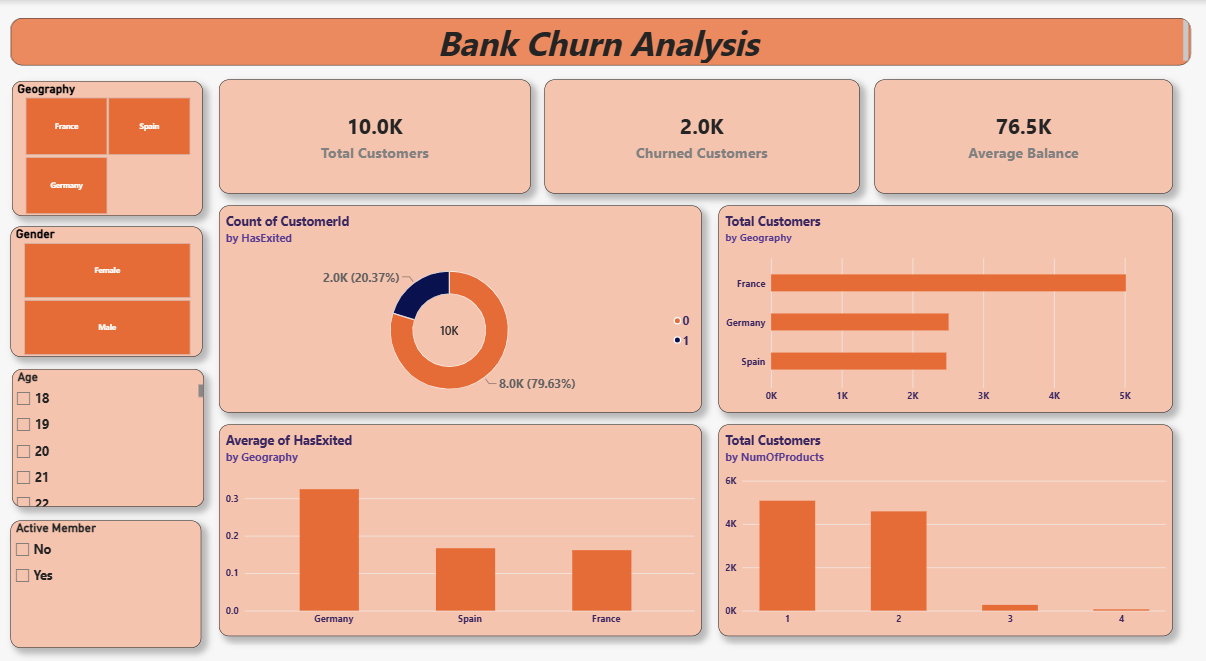

Layout of this report page (visuals, bound fields, positions):
{"tool":"powerbi","page":{"name":"Bank Churn Overview","canvas":[1920,1080],"ordinal":0},"visuals":[{"type":"textbox","box":[17.5,27.5,1877.5,75],"z":0},{"type":"slicer","fields":{"Values":["Bank_Churn.Geography"]},"box":[19.1,128.8,303,214.7],"z":1000},{"type":"slicer","fields":{"Values":["Bank_Churn.Gender"]},"box":[16.7,360.3,305.4,207.6],"z":2000},{"type":"slicer","fields":{"Values":["Bank_Churn.Age"]},"box":[19.1,586.9,305.4,219.5],"z":3000},{"type":"slicer","fields":{"Values":["Bank_Churn.Active Member"]},"box":[16.7,827.9,303,202.8],"z":4000},{"type":"card","fields":{"Values":["Count(Bank_Churn.CustomerId)"]},"box":[348.3,126.5,496.3,181.3],"z":5000},{"type":"card","fields":{"Values":["Count(Bank_Churn.CustomerId)"]},"box":[866.1,126.5,501,181.3],"z":6000},{"type":"card","fields":{"Values":["Avg(Bank_Churn.Balance)"]},"box":[1391,126.5,474.8,181.3],"z":7000},{"type":"donutChart","fields":{"Category":["Bank_Churn.Exited"],"Y":["Count(Bank_Churn.CustomerId)"]},"box":[348.3,326.9,768.3,329.3],"z":8000},{"type":"clusteredBarChart","fields":{"Category":["Bank_Churn.Geography"],"Y":["CountNonNull(Bank_Churn.CustomerId)"]},"box":[1142.9,326.9,722.9,329.3],"z":9000},{"type":"clusteredColumnChart","fields":{"Category":["Bank_Churn.Geography"],"Y":["Avg(Bank_Churn.Exited)"]},"box":[348.3,675.2,768.3,336.4],"z":9001},{"type":"columnChart","fields":{"Category":["Bank_Churn.NumOfProducts"],"Y":["Count(Bank_Churn.CustomerId)"]},"box":[1142.9,675.2,722.9,336.4],"z":9002}]}

Visuals, with their boxes in screenshot pixels (x1, y1, x2, y2), scaled from the page's 1920x1080 canvas onto the 1206x661 screenshot:
textbox: BBox(11, 17, 1190, 63)
slicer - Bank_Churn.Geography: BBox(12, 79, 202, 210)
slicer - Bank_Churn.Gender: BBox(10, 221, 202, 348)
slicer - Bank_Churn.Age: BBox(12, 359, 204, 494)
slicer - Bank_Churn.Active Member: BBox(10, 507, 201, 631)
card - Count(Bank_Churn.CustomerId): BBox(219, 77, 531, 188)
card - Count(Bank_Churn.CustomerId): BBox(544, 77, 859, 188)
card - Avg(Bank_Churn.Balance): BBox(874, 77, 1172, 188)
donutChart - Bank_Churn.Exited x Count(Bank_Churn.CustomerId): BBox(219, 200, 701, 402)
clusteredBarChart - Bank_Churn.Geography x CountNonNull(Bank_Churn.CustomerId): BBox(718, 200, 1172, 402)
clusteredColumnChart - Bank_Churn.Geography x Avg(Bank_Churn.Exited): BBox(219, 413, 701, 619)
columnChart - Bank_Churn.NumOfProducts x Count(Bank_Churn.CustomerId): BBox(718, 413, 1172, 619)
